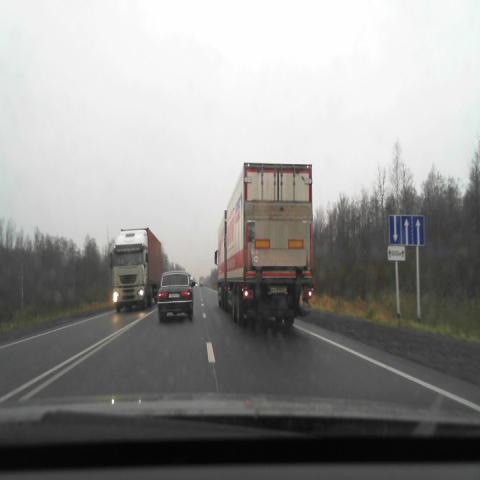5_15_7: (389, 215, 424, 246)
